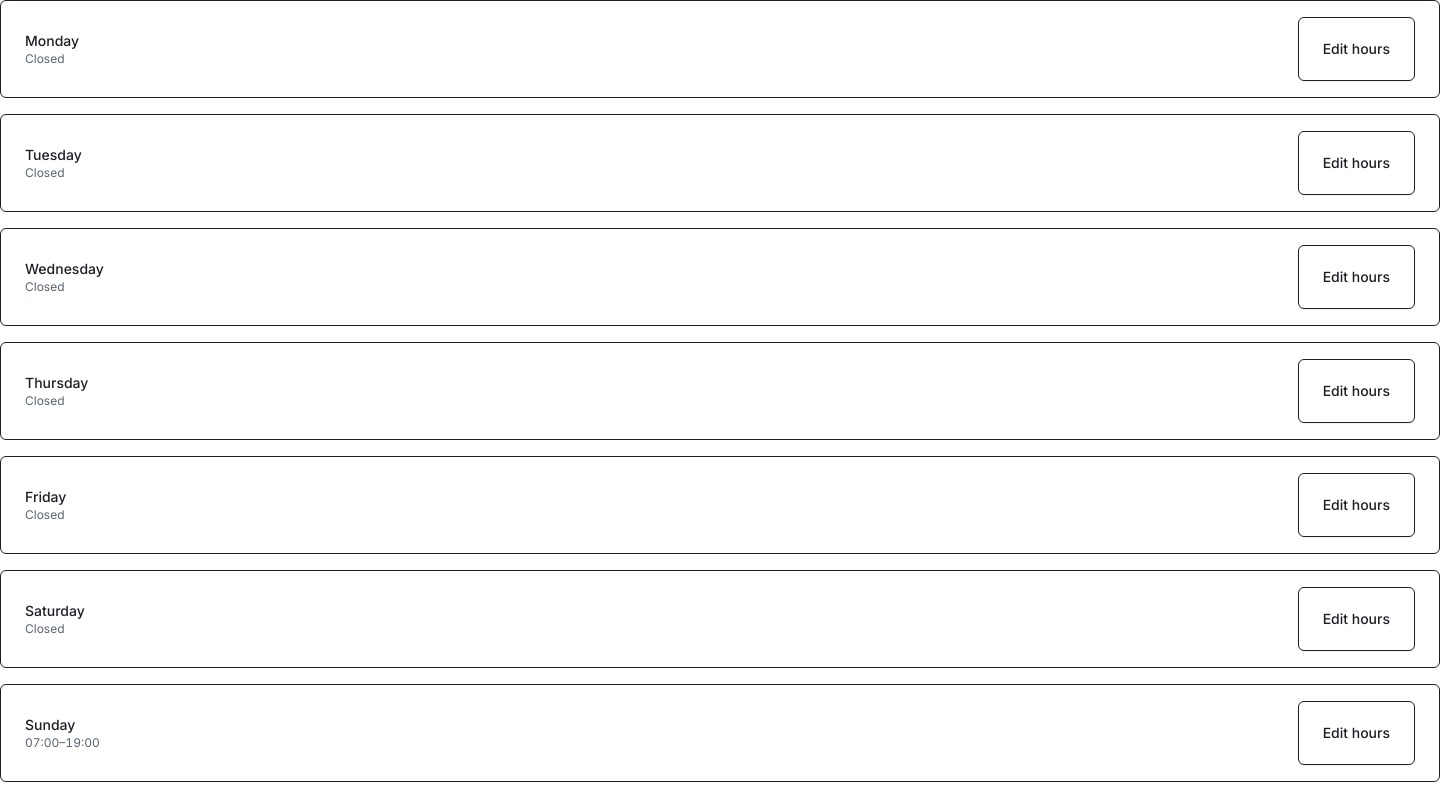
Test case: WeeklyScheduleEditor › Monday dialog opens empty even when other days have ranges
The image size is (1440, 810).
Click the button with aria-label "edit monday hours" at [1356, 49], box [1298,17,1415,81]
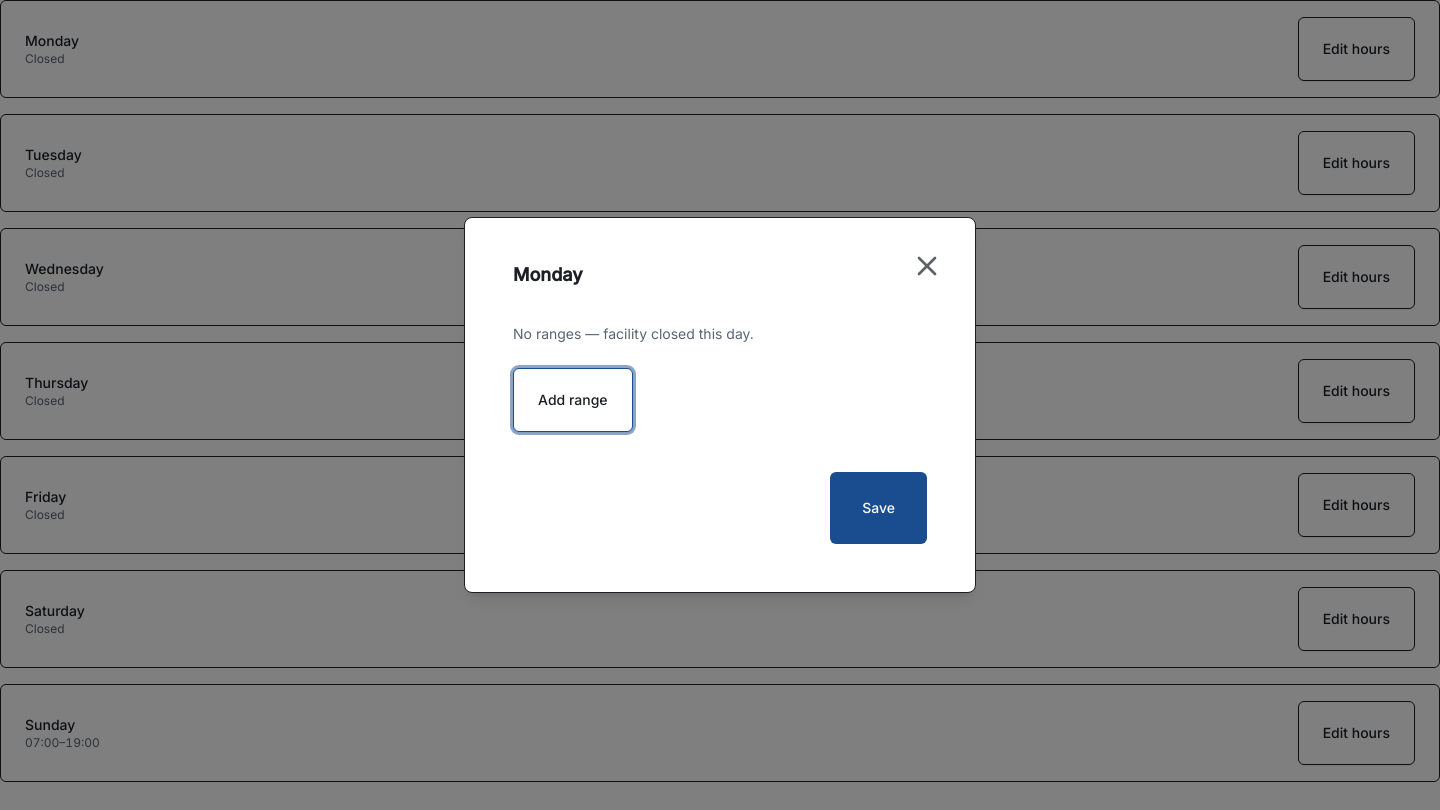
Expected: the dialog is shown, [464,217,976,593]
Expected: the text "No ranges — facility closed this day." is shown, [513,325,754,342]
